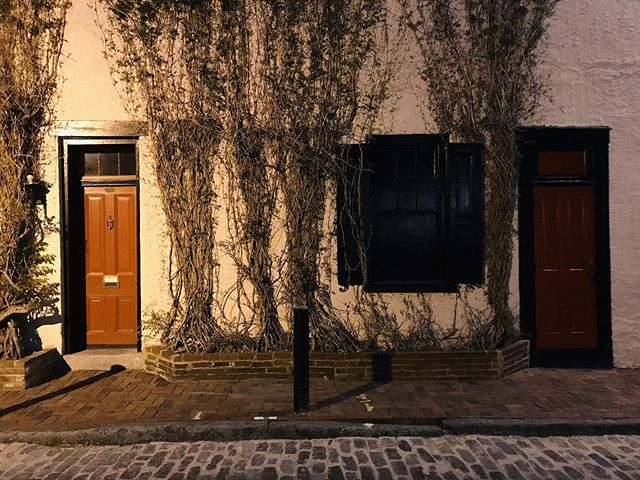door: (73, 176, 138, 354), (535, 183, 600, 361)
window: (372, 143, 444, 283)
